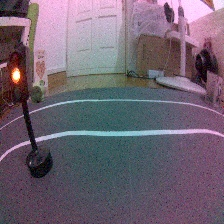amber: (6, 50, 56, 176)
